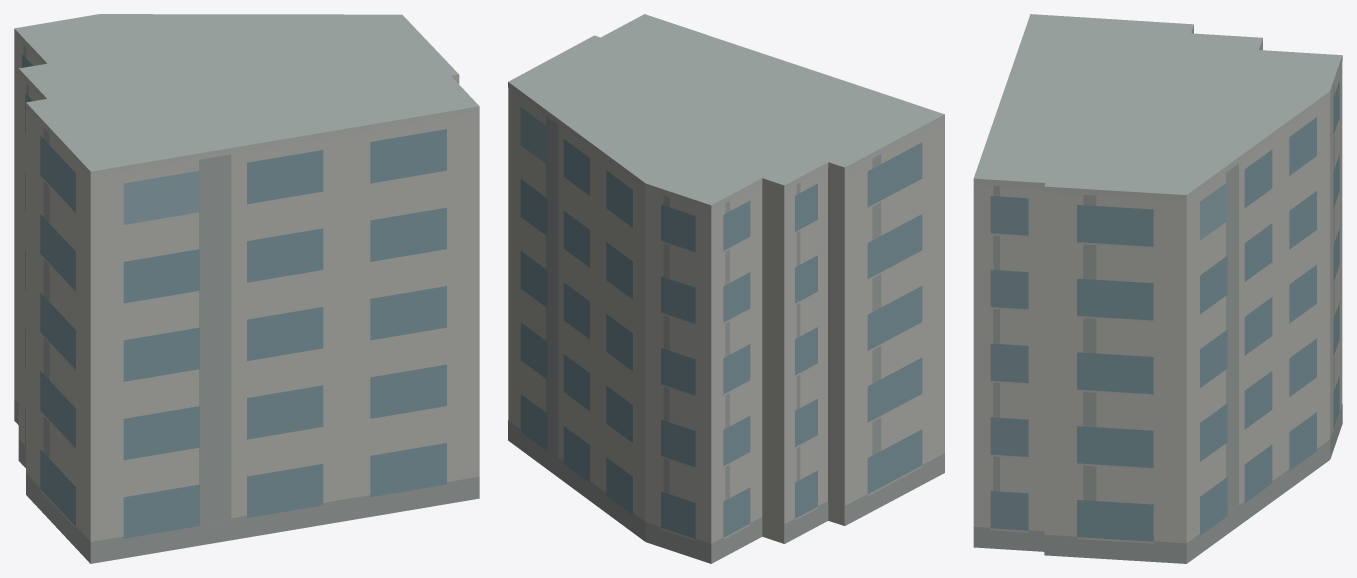
File: survey-upis-32906325.glb
The picture shows the model from 3 angles, left to right: view 1: azimuth 30°, elevation 25°; view 2: azimuth 150°, elevation 25°; view 3: azimuth 270°, elevation 25°; orthographic projection. The views are drawn at different scales.
Visible parts, largest first — view 1: survey-upis-32906325.tmp; view 2: survey-upis-32906325.tmp; view 3: survey-upis-32906325.tmp.
Part boxes in pixels (box(x1,y1,x2,y2)): survey-upis-32906325.tmp: box(14, 14, 479, 563); survey-upis-32906325.tmp: box(508, 14, 944, 563); survey-upis-32906325.tmp: box(973, 14, 1342, 563).
Bounding box in the file's own units: 15.86 × 15.05 × 13.65.
